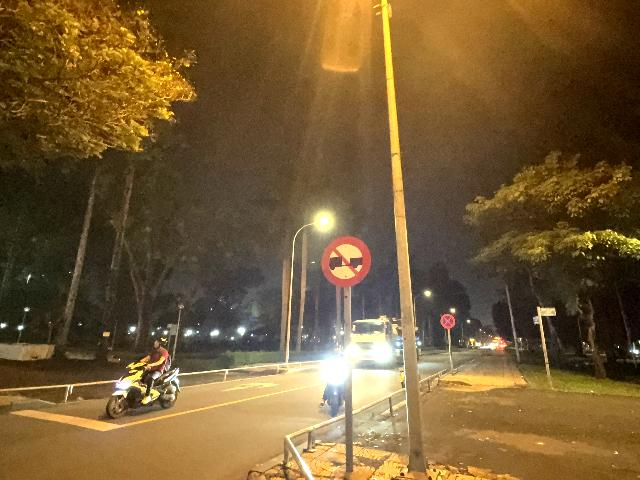cam-xe-somi-romooc: (321, 236, 372, 288)
